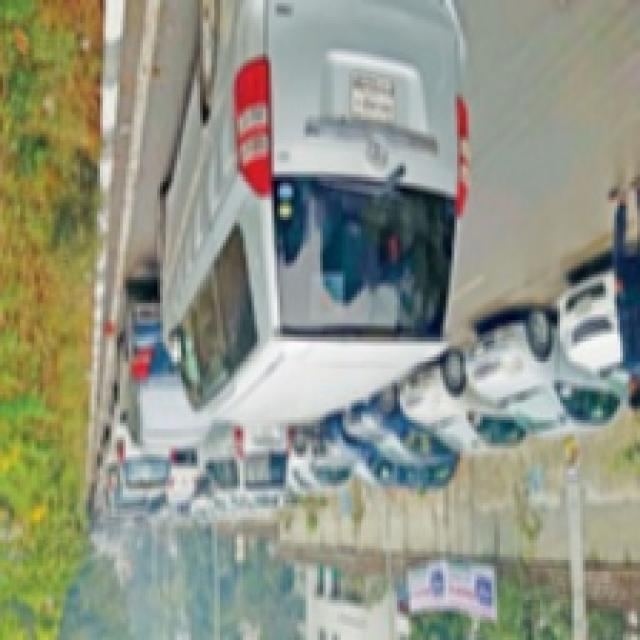car: (192, 15, 481, 421), (464, 324, 608, 454), (118, 293, 215, 452), (398, 369, 509, 457), (346, 392, 448, 474)
